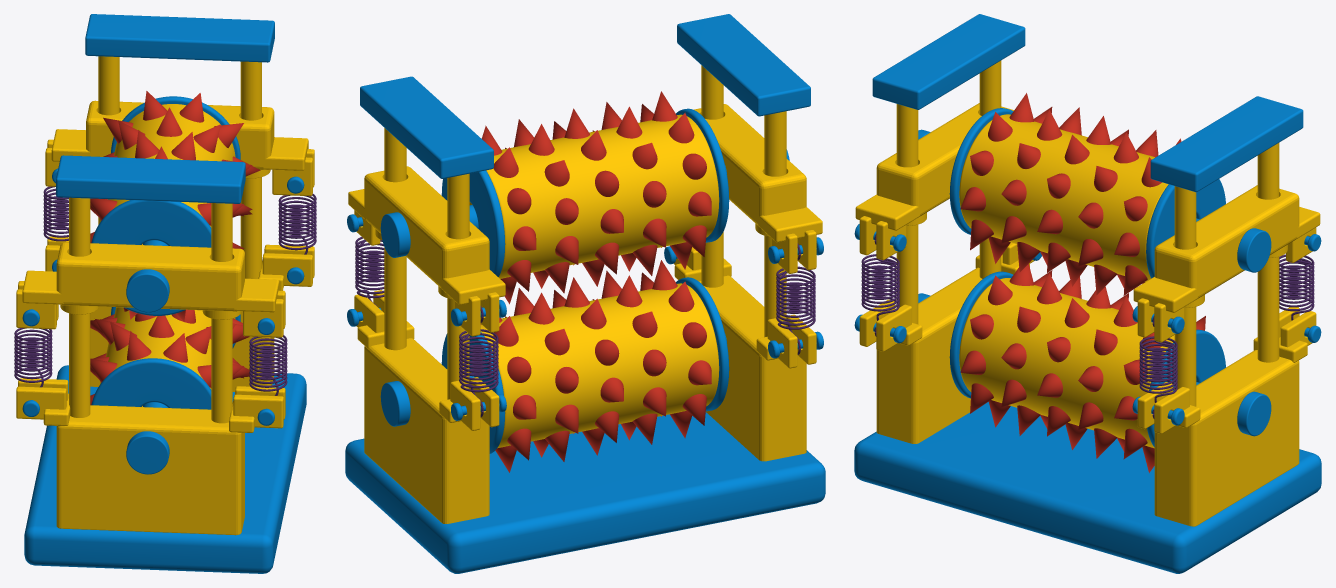
The model's file is spring-loaded-roller-press.glb.
The picture shows the model from 3 angles, left to right: view 1: azimuth 30°, elevation 25°; view 2: azimuth 150°, elevation 25°; view 3: azimuth 270°, elevation 25°; orthographic projection. The views are drawn at different scales.
Parts seen in each view (by area): view 1: spring-loaded-roller-press-part-108, spring-loaded-roller-press-part-001, spring-loaded-roller-press-part-109, spring-loaded-roller-press-part-120, spring-loaded-roller-press-part-129, spring-loaded-roller-press-part-111, spring-loaded-roller-press-part-056, spring-loaded-roller-press-part-003, spring-loaded-roller-press-part-110, spring-loaded-roller-press-part-119, spring-loaded-roller-press-part-118, spring-loaded-roller-press-part-127 (+22 smaller); view 2: spring-loaded-roller-press-part-001, spring-loaded-roller-press-part-055, spring-loaded-roller-press-part-002, spring-loaded-roller-press-part-110, spring-loaded-roller-press-part-108, spring-loaded-roller-press-part-111, spring-loaded-roller-press-part-109, spring-loaded-roller-press-part-120, spring-loaded-roller-press-part-129, spring-loaded-roller-press-part-127, spring-loaded-roller-press-part-119, spring-loaded-roller-press-part-128 (+10 smaller); view 3: spring-loaded-roller-press-part-001, spring-loaded-roller-press-part-110, spring-loaded-roller-press-part-055, spring-loaded-roller-press-part-002, spring-loaded-roller-press-part-108, spring-loaded-roller-press-part-111, spring-loaded-roller-press-part-109, spring-loaded-roller-press-part-129, spring-loaded-roller-press-part-120, spring-loaded-roller-press-part-128, spring-loaded-roller-press-part-127, spring-loaded-roller-press-part-118 (+10 smaller).
Boxes of the visible parts, x1,y1,x2,y2 form: spring-loaded-roller-press-part-108: [16, 378, 285, 535]; spring-loaded-roller-press-part-001: [24, 365, 306, 573]; spring-loaded-roller-press-part-109: [16, 242, 285, 337]; spring-loaded-roller-press-part-120: [56, 155, 245, 203]; spring-loaded-roller-press-part-129: [85, 14, 274, 62]; spring-loaded-roller-press-part-111: [45, 100, 314, 196]; spring-loaded-roller-press-part-056: [91, 200, 211, 315]; spring-loaded-roller-press-part-003: [91, 358, 211, 409]; spring-loaded-roller-press-part-110: [45, 236, 314, 391]; spring-loaded-roller-press-part-119: [60, 197, 98, 417]; spring-loaded-roller-press-part-118: [202, 203, 241, 423]; spring-loaded-roller-press-part-127: [240, 61, 270, 278]; spring-loaded-roller-press-part-001: [345, 412, 825, 573]; spring-loaded-roller-press-part-055: [469, 114, 719, 278]; spring-loaded-roller-press-part-002: [469, 283, 719, 448]; spring-loaded-roller-press-part-110: [354, 290, 499, 523]; spring-loaded-roller-press-part-108: [674, 247, 816, 461]; spring-loaded-roller-press-part-111: [348, 166, 505, 336]; spring-loaded-roller-press-part-109: [694, 104, 822, 273]; spring-loaded-roller-press-part-120: [677, 14, 810, 116]; spring-loaded-roller-press-part-129: [360, 76, 493, 178]; spring-loaded-roller-press-part-127: [375, 128, 406, 350]; spring-loaded-roller-press-part-119: [755, 111, 786, 337]; spring-loaded-roller-press-part-128: [438, 173, 469, 399]; spring-loaded-roller-press-part-001: [854, 402, 1321, 573]; spring-loaded-roller-press-part-110: [1137, 307, 1316, 526]; spring-loaded-roller-press-part-055: [959, 114, 1168, 281]; spring-loaded-roller-press-part-002: [959, 278, 1174, 448]; spring-loaded-roller-press-part-108: [859, 242, 1034, 443]; spring-loaded-roller-press-part-111: [1133, 185, 1320, 342]; spring-loaded-roller-press-part-109: [855, 103, 1013, 260]; spring-loaded-roller-press-part-129: [1150, 96, 1303, 192]; spring-loaded-roller-press-part-120: [872, 14, 1025, 109]; spring-loaded-roller-press-part-128: [1257, 143, 1287, 362]; spring-loaded-roller-press-part-127: [1174, 186, 1204, 406]; spring-loaded-roller-press-part-118: [896, 104, 926, 324].
Bounding box in the file's own units: 2.78 × 2.79 × 3.
